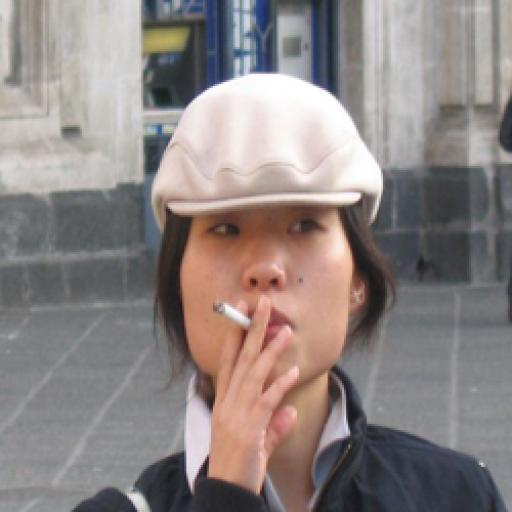terdeteksi merokok: (180, 188, 328, 390)
